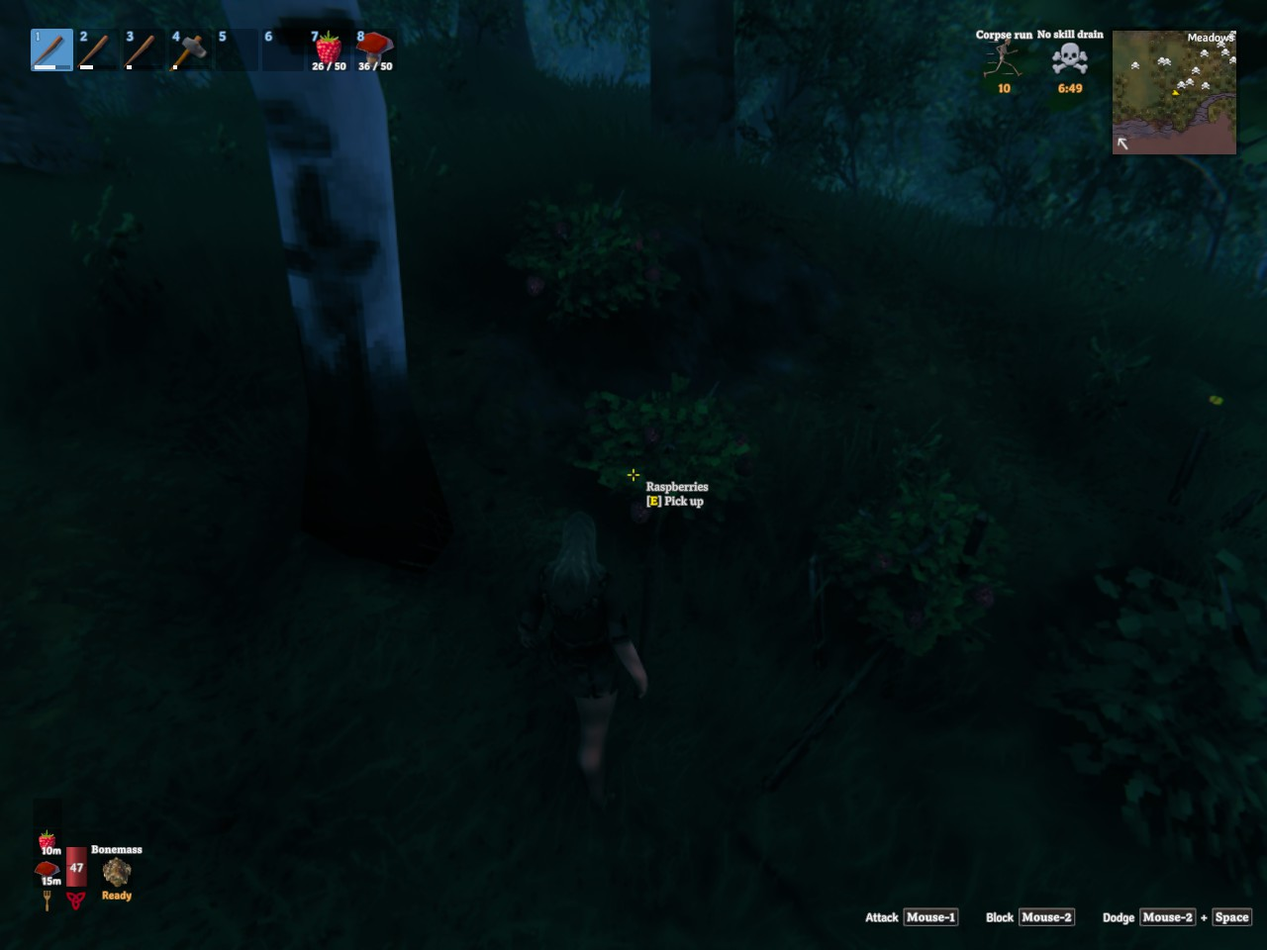Raspberries: (831, 482, 1010, 647), (588, 396, 737, 512), (521, 212, 658, 318)
